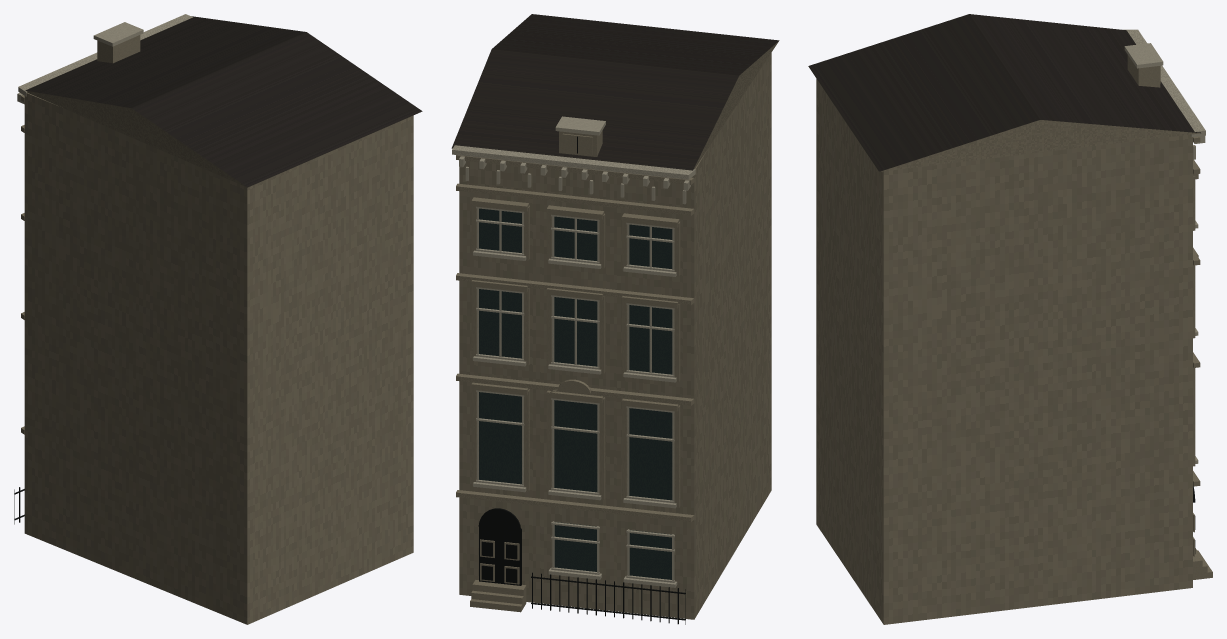
3 renders of one model, left to right at view 1: azimuth 30°, elevation 25°; view 2: azimuth 150°, elevation 25°; view 3: azimuth 270°, elevation 25°, orthographic. The views are drawn at different scales.
Parts seen in each view (by area): view 1: zuidblaak18-0, zuidblaak18-1, zuidblaak18-4; view 2: zuidblaak18-0, zuidblaak18-1, zuidblaak18-3, zuidblaak18-4, zuidblaak18-2; view 3: zuidblaak18-0, zuidblaak18-1, zuidblaak18-4.
Boxes of the visible parts, x1,y1,x2,y2 form: zuidblaak18-0: (21,35,413,624); zuidblaak18-1: (25,16,422,187); zuidblaak18-4: (17,14,192,104); zuidblaak18-0: (456,40,779,619); zuidblaak18-1: (451,14,778,170); zuidblaak18-3: (479,208,672,579); zuidblaak18-4: (452,116,695,587); zuidblaak18-2: (478,136,685,624); zuidblaak18-0: (816,55,1212,624); zuidblaak18-1: (808,14,1200,171); zuidblaak18-4: (1123,29,1205,463).
Size of the model in its own units: 12.48 by 20.15 by 15.1.
5 materials, 5 textured.
